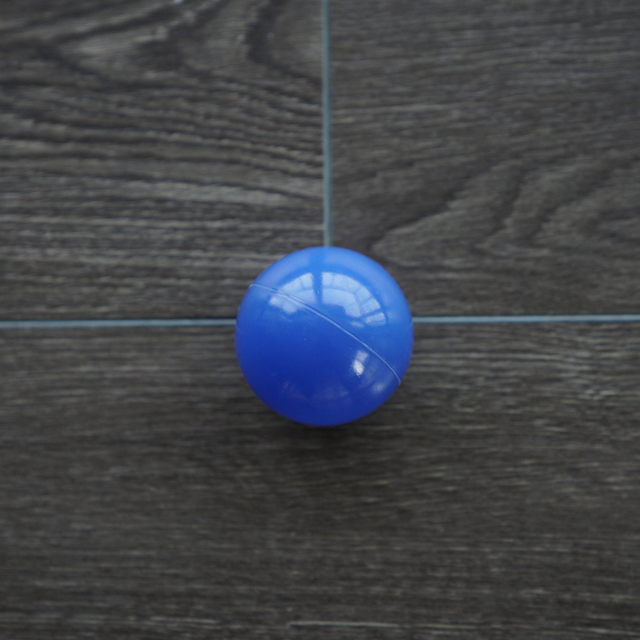Ball: (238, 246, 414, 423)
